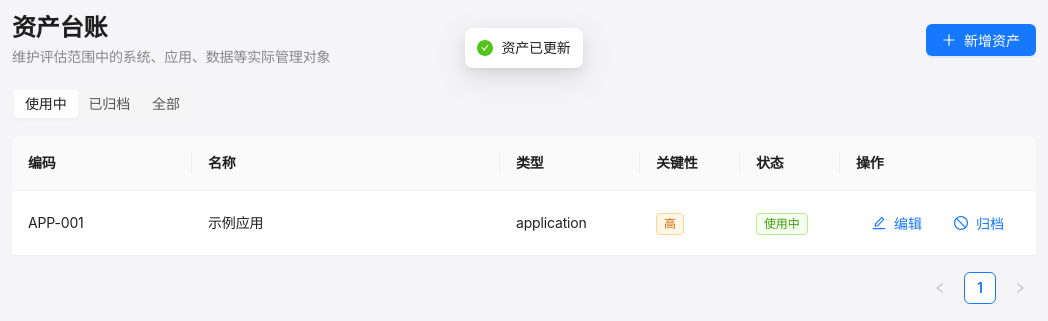
AssetLedger › loads archived assets through the status filter and offers restore
The width and height of the screenshot is (1048, 321).
Expected: the text "示例应用" is shown, [192,191,500,256]
Click the text "已归档" at {"x": 109, "y": 104}, box [88,95,130,112]
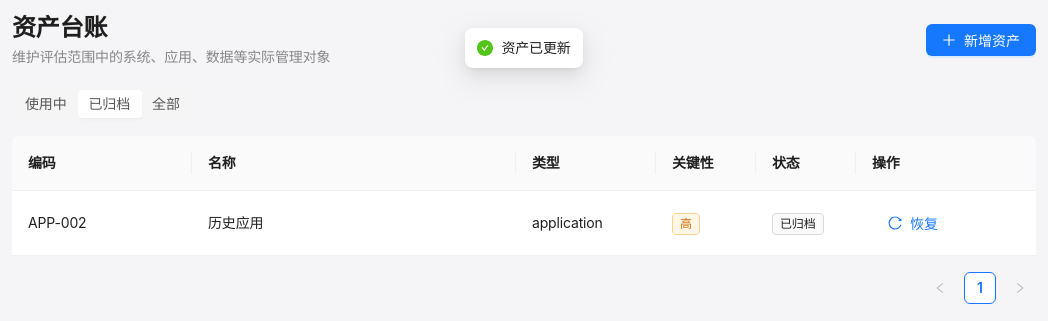
Expected: the text "历史应用" is shown, [192,191,516,256]
Expected: the button "恢复" is shown, [872,207,954,239]
Expected: the button "编辑" is gone
